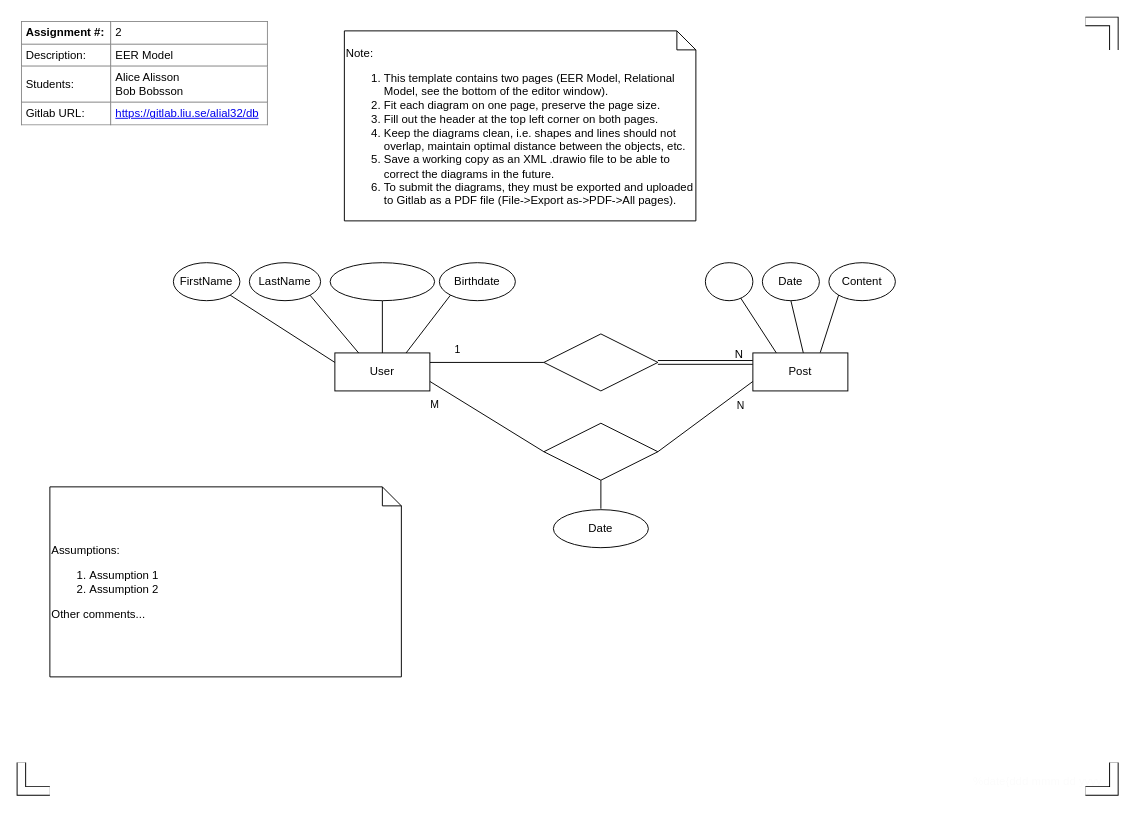
The diagram is 1135 pixels wide and 816 high, and some of its shapes have lost their labels. Each missing label, with the centre of its shape:
"ID" belongs at (x=728, y=281).
"Likes" belongs at (x=600, y=451).
"PersonalNumber" belongs at (x=382, y=281).
"Writes" belongs at (x=600, y=362).
